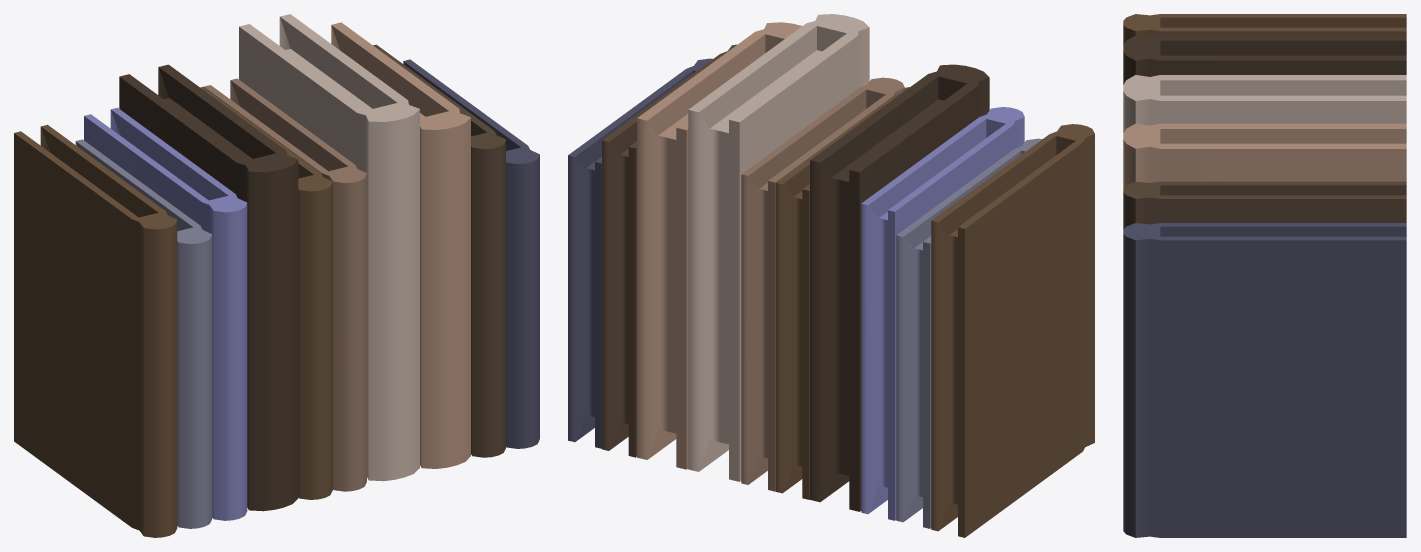
The model's file is colored books set shelf bedroom.fbx.
3 renders of one model, left to right at view 1: azimuth 30°, elevation 25°; view 2: azimuth 150°, elevation 25°; view 3: azimuth 270°, elevation 25°, orthographic. The views are drawn at different scales.
Visible parts, largest first — view 1: pCube10, pCube1, pCube4, pCube5, pCube7, pCube2, pCube8, pCube6, pCube3, pCube9; view 2: pCube10, pCube1, pCube4, pCube5, pCube7, pCube2, pCube8, pCube6, pCube3, pCube9; view 3: pCube9, pCube5, pCube1, pCube6, pCube4, pCube10.
Boxes of the visible parts, left/top/right/bottom form: pCube10: left=14, top=124, right=177, bottom=537; pCube1: left=239, top=14, right=419, bottom=481; pCube4: left=119, top=64, right=298, bottom=511; pCube5: left=331, top=22, right=470, bottom=468; pCube7: left=84, top=107, right=247, bottom=520; pCube2: left=204, top=78, right=366, bottom=491; pCube8: left=75, top=139, right=212, bottom=528; pCube6: left=373, top=44, right=505, bottom=457; pCube3: left=200, top=87, right=332, bottom=499; pCube9: left=403, top=59, right=539, bottom=448; pCube10: left=931, top=124, right=1094, bottom=537; pCube1: left=688, top=14, right=869, bottom=481; pCube4: left=810, top=64, right=989, bottom=511; pCube5: left=637, top=22, right=801, bottom=469; pCube7: left=861, top=107, right=1024, bottom=520; pCube2: left=741, top=77, right=904, bottom=491; pCube8: left=896, top=138, right=1042, bottom=528; pCube6: left=602, top=44, right=736, bottom=457; pCube3: left=775, top=87, right=909, bottom=499; pCube9: left=568, top=58, right=712, bottom=448; pCube9: left=1123, top=223, right=1406, bottom=537; pCube5: left=1123, top=123, right=1406, bottom=187; pCube1: left=1123, top=75, right=1406, bottom=132; pCube6: left=1123, top=181, right=1406, bottom=229; pCube4: left=1123, top=35, right=1406, bottom=84; pCube10: left=1123, top=14, right=1406, bottom=44.
Size of the model in its own units: 0.3373 by 0.2929 by 0.1999.
